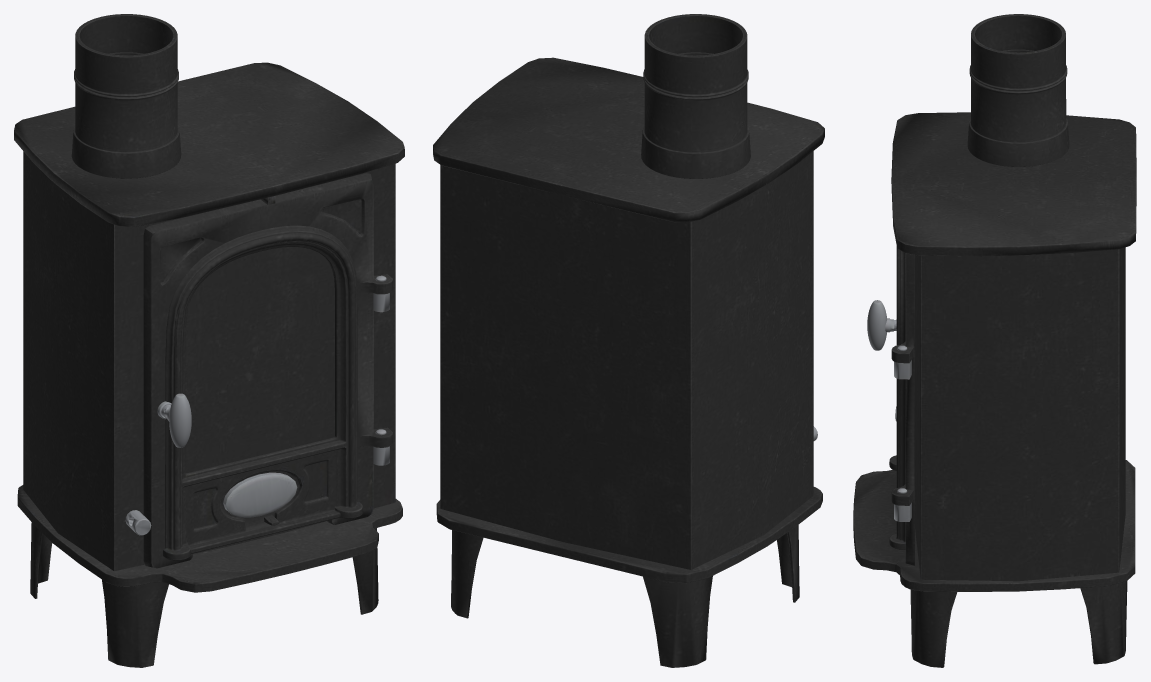
Rendered from st_wood_stove.gltf.
3 renders of one model, left to right at view 1: azimuth 30°, elevation 25°; view 2: azimuth 150°, elevation 25°; view 3: azimuth 270°, elevation 25°, orthographic. The views are drawn at different scales.
Visible parts, largest first — view 1: Stove_1.004, Stove_1.002, Stove_1.007, Stove_1.011, Stove_1.008, Stove_1.003, Stove_1.005, Stove_1.006, Stove_1.015, Stove_1.010, Stove_1.009; view 2: Stove_1.004, Stove_1.002, Stove_1.003, Stove_1.006, Stove_1.005; view 3: Stove_1.004, Stove_1.002, Stove_1.003, Stove_1.005, Stove_1.006, Stove_1.008, Stove_1.011, Stove_1.010, Stove_1.009.
Part boxes in pixels (bbox=[...]): Stove_1.004: bbox=[23, 151, 395, 570]; Stove_1.002: bbox=[14, 62, 404, 226]; Stove_1.007: bbox=[185, 247, 334, 473]; Stove_1.011: bbox=[163, 225, 362, 560]; Stove_1.008: bbox=[143, 173, 392, 568]; Stove_1.003: bbox=[71, 14, 181, 178]; Stove_1.005: bbox=[17, 485, 402, 592]; Stove_1.006: bbox=[30, 522, 378, 667]; Stove_1.015: bbox=[223, 472, 297, 517]; Stove_1.010: bbox=[169, 393, 191, 447]; Stove_1.009: bbox=[373, 275, 389, 465]; Stove_1.004: bbox=[440, 151, 813, 569]; Stove_1.002: bbox=[433, 57, 824, 222]; Stove_1.003: bbox=[641, 14, 750, 178]; Stove_1.006: bbox=[451, 525, 799, 667]; Stove_1.005: bbox=[436, 487, 822, 583]; Stove_1.004: bbox=[915, 247, 1125, 581]; Stove_1.002: bbox=[891, 112, 1136, 256]; Stove_1.003: bbox=[967, 14, 1069, 166]; Stove_1.005: bbox=[853, 460, 1135, 591]; Stove_1.006: bbox=[910, 581, 1127, 667]; Stove_1.008: bbox=[891, 253, 914, 565]; Stove_1.011: bbox=[889, 246, 905, 549]; Stove_1.010: bbox=[867, 300, 886, 350]; Stove_1.009: bbox=[894, 345, 911, 521].
Bounding box in the file's own units: 0.3853 × 0.7177 × 0.3414.
1 material, 1 textured.
